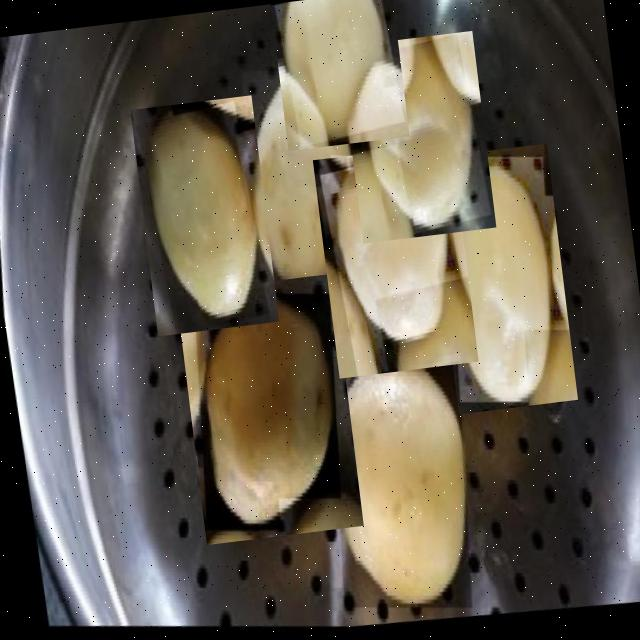Potato: (306, 336, 492, 625), (175, 274, 364, 544), (427, 143, 578, 414), (312, 143, 478, 378), (223, 59, 379, 302), (130, 95, 279, 336), (339, 30, 496, 244), (270, 0, 409, 150)
